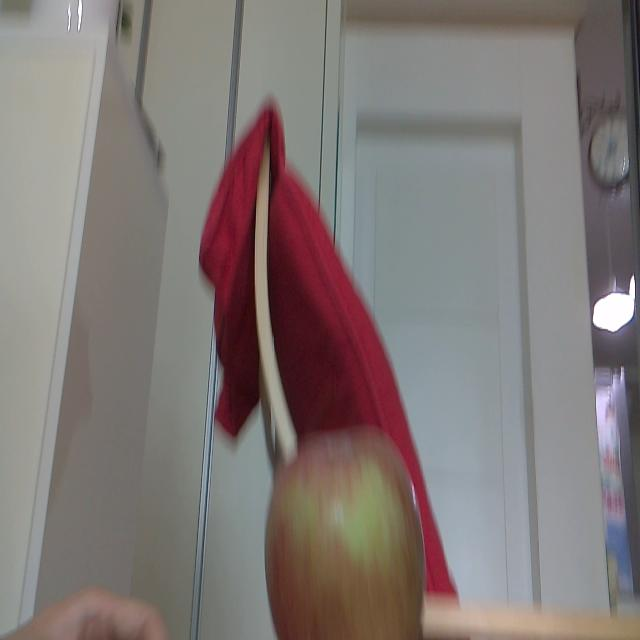apple: (260, 419, 430, 640)
